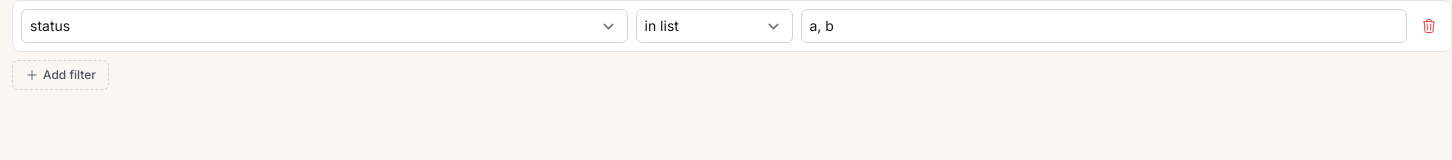
Scenario: FilterBuilder › round-trips comma-separated values for the "in" operator
Replace the text in the field with test id "filter-value-0" with "x,y,z" at (1104,26), box x1=800 y1=9 x2=1407 y2=43
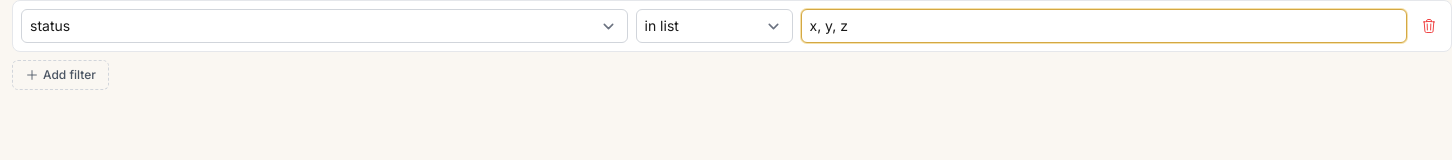
Expected: the field with test id "filter-value-0" holds "x, y, z", x1=800 y1=9 x2=1407 y2=43
